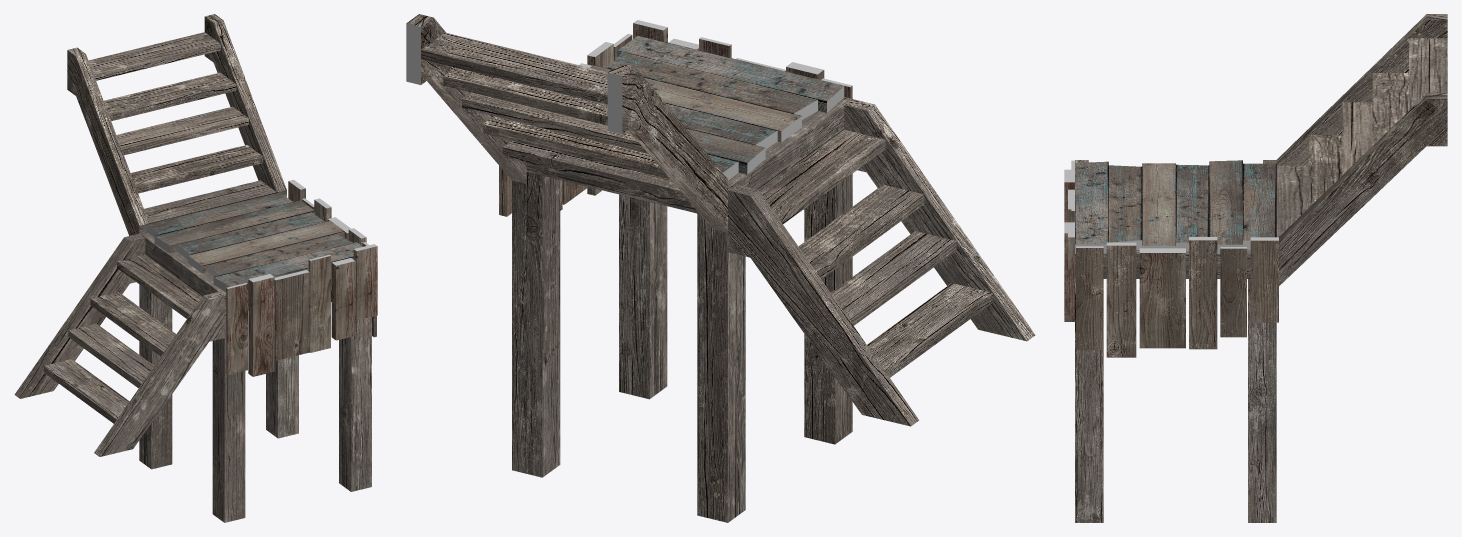
The model's file is WoodStairs4.fbx.
The picture shows the model from 3 angles, left to right: view 1: azimuth 30°, elevation 25°; view 2: azimuth 150°, elevation 25°; view 3: azimuth 270°, elevation 25°; orthographic projection. The views are drawn at different scales.
Parts seen in each view (by area): view 1: polySurface3023; view 2: polySurface3023; view 3: polySurface3023.
Part boxes in pixels (bbox=[...]): polySurface3023: bbox=[14, 14, 377, 522]; polySurface3023: bbox=[406, 14, 1035, 522]; polySurface3023: bbox=[1064, 14, 1447, 522].
Size of the model in its own units: 2.83 by 3.42 by 2.8.
